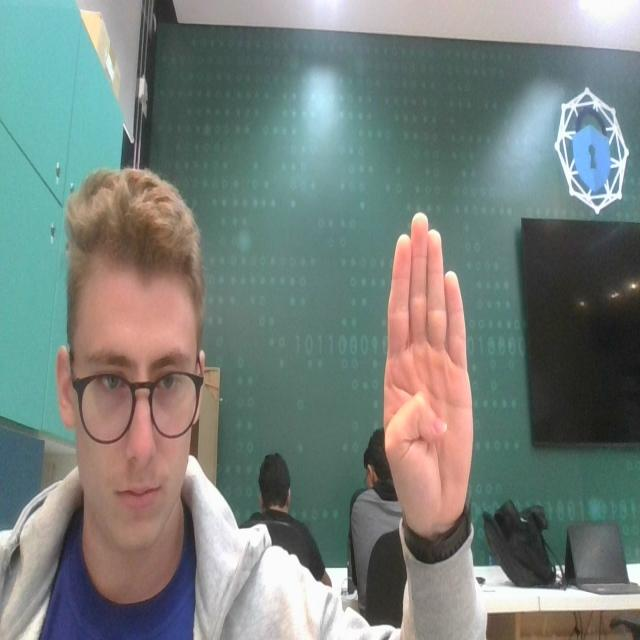B: (377, 204, 477, 538)
